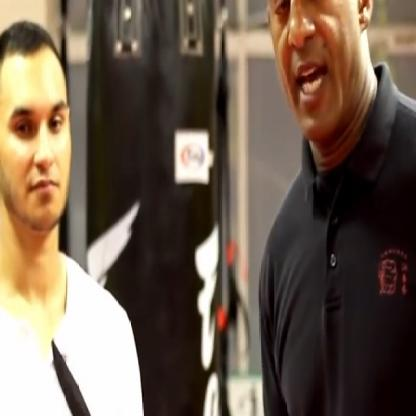knife: (45, 328, 158, 415)
